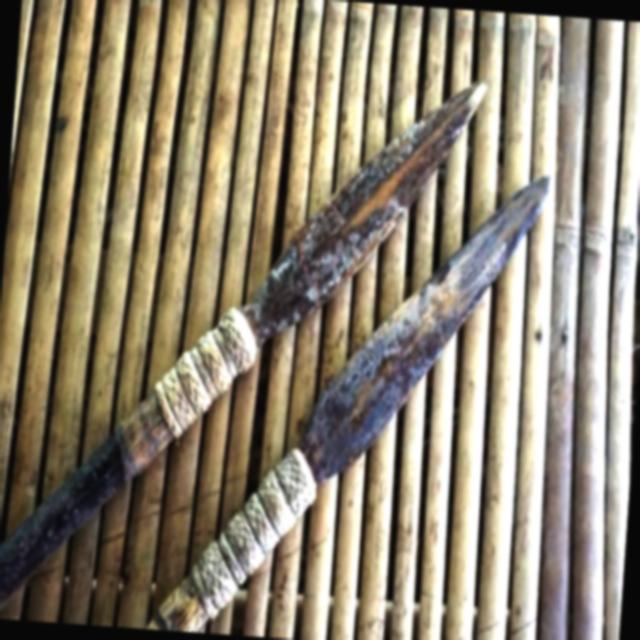semi automatic: (118, 45, 640, 640)
